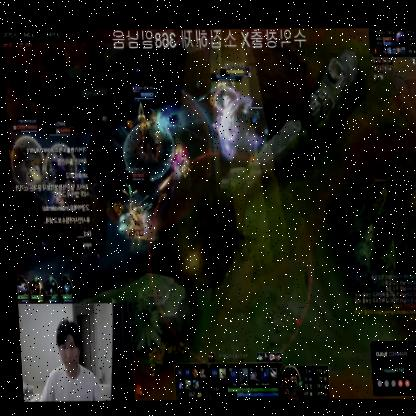streamer: (30, 319, 100, 401)
